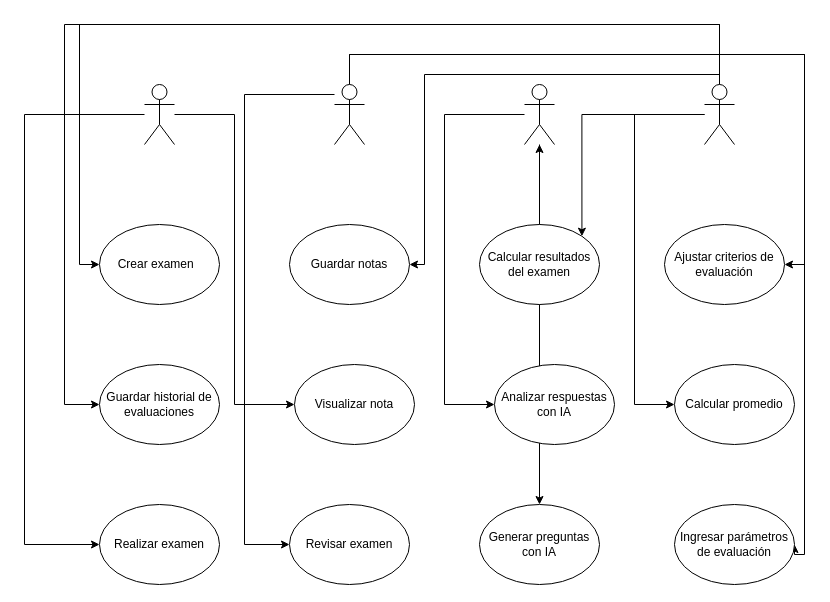
This 830x602 diagram has some shape labels left out. The box of each missing label's shape, as (x1, y1, x2, y2) in pixels:
Estudiante: (144, 84, 174, 144)
Profesor: (334, 84, 364, 144)
Página web: (704, 84, 734, 144)
Sistema IA: (524, 84, 554, 144)
